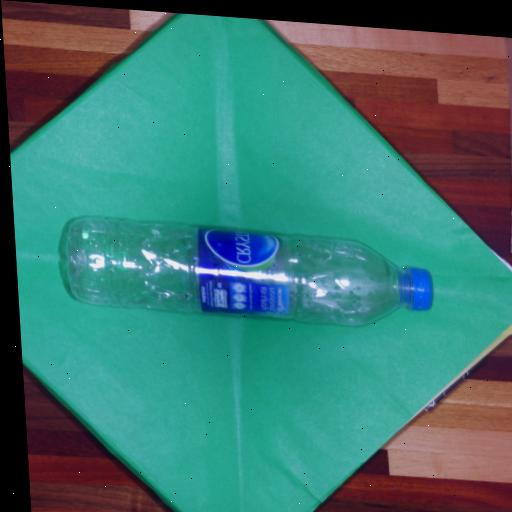bottle: (44, 202, 452, 344)
